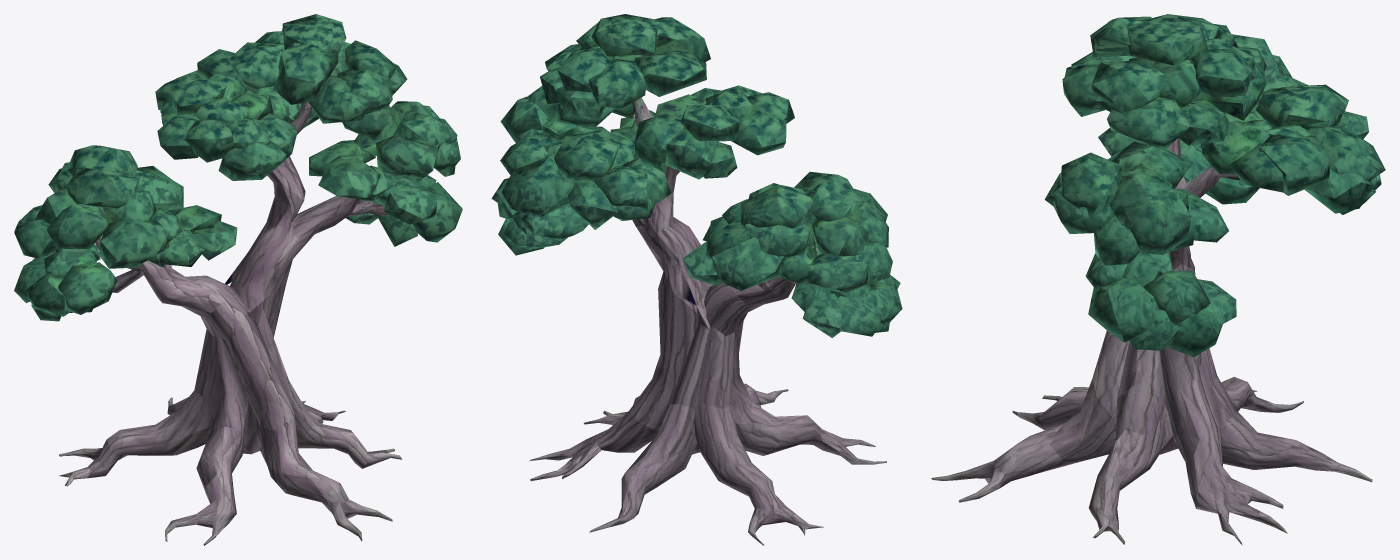
File: source.glb
The picture shows the model from 3 angles, left to right: view 1: azimuth 30°, elevation 25°; view 2: azimuth 150°, elevation 25°; view 3: azimuth 270°, elevation 25°; orthographic projection. The views are drawn at different scales.
Bounding box in the file's own units: 0.9961 × 1 × 0.8457.
1 material, 1 textured.
